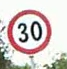limite 30: (5, 9, 52, 54)
